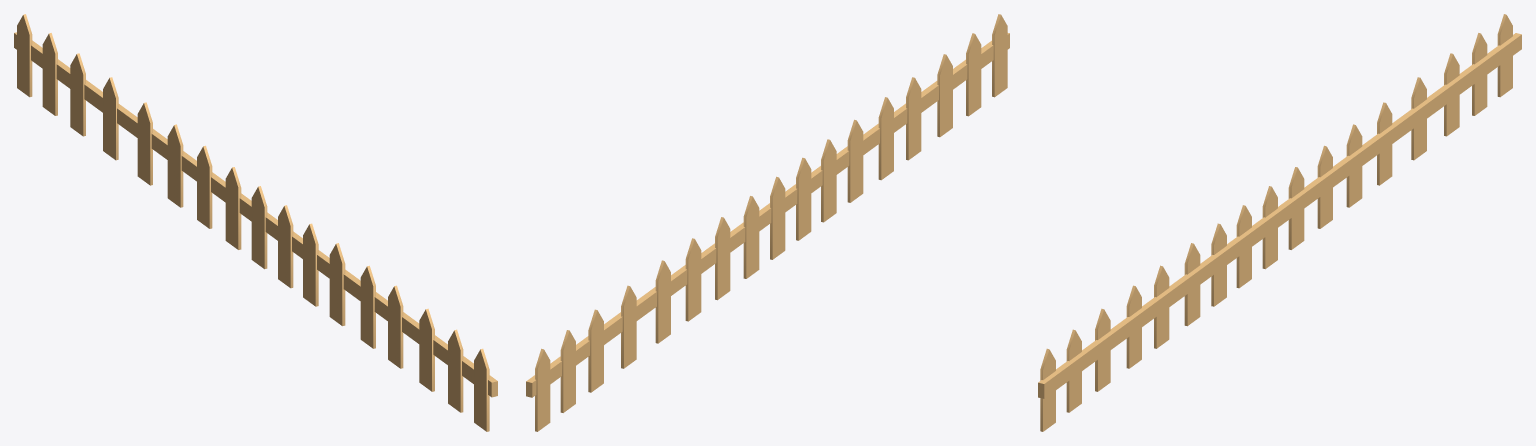
File: bars.fbx
3 renders of one model, left to right at view 1: azimuth 30°, elevation 25°; view 2: azimuth 150°, elevation 25°; view 3: azimuth 330°, elevation 25°, orthographic.
Visible parts, largest first — view 1: 立方体_16, 立方体_2_2, 立方体_1, 立方体_4, 立方体_6, 立方体_9, 立方体_15, 立方体_7, 立方体_5, 立方体_10, 立方体_8, 立方体_12 (+6 smaller); view 2: 立方体_16, 立方体_6, 立方体_4, 立方体_1, 立方体_2, 立方体_3, 立方体_11, 立方体_8, 立方体_13, 立方体, 立方体_14, 立方体_12 (+6 smaller); view 3: 立方体_16, 立方体_6, 立方体_4, 立方体_1, 立方体_12, 立方体_9, 立方体_5, 立方体_7, 立方体_2, 立方体_15, 立方体_8, 立方体_3 (+6 smaller).
Boxes of the visible parts, <box> form: 立方体_16: <box>14,32,497,397</box>; 立方体_2_2: <box>251,186,267,269</box>; 立方体_1: <box>225,167,241,249</box>; 立方体_4: <box>329,243,345,326</box>; 立方体_6: <box>167,124,183,207</box>; 立方体_9: <box>70,53,85,136</box>; 立方体_15: <box>419,308,434,391</box>; 立方体_7: <box>137,102,152,185</box>; 立方体_5: <box>360,265,375,348</box>; 立方体_10: <box>42,33,57,115</box>; 立方体_8: <box>103,77,118,160</box>; 立方体_12: <box>474,348,489,431</box>; 立方体_16: <box>526,33,1009,397</box>; 立方体_6: <box>685,238,701,321</box>; 立方体_4: <box>847,119,863,202</box>; 立方体_1: <box>743,196,759,278</box>; 立方体_2: <box>796,157,811,240</box>; 立方体_3: <box>821,139,836,222</box>; 立方体_11: <box>535,348,550,431</box>; 立方体_8: <box>621,285,636,368</box>; 立方体_13: <box>906,77,921,160</box>; 立方体: <box>715,217,730,300</box>; 立方体_14: <box>966,33,981,116</box>; 立方体_12: <box>992,14,1007,97</box>; 立方体_16: <box>1038,33,1521,398</box>; 立方体_6: <box>1346,124,1362,207</box>; 立方体_4: <box>1184,243,1200,326</box>; 立方体_1: <box>1288,167,1304,249</box>; 立方体_12: <box>1040,348,1055,431</box>; 立方体_9: <box>1444,53,1459,136</box>; 立方体_5: <box>1154,265,1169,348</box>; 立方体_7: <box>1377,102,1392,185</box>; 立方体_2: <box>1236,205,1251,288</box>; 立方体_15: <box>1095,308,1110,391</box>; 立方体_8: <box>1411,77,1426,160</box>; 立方体_3: <box>1211,223,1226,306</box>.
Bounding box in the file's own units: 49.81 × 498 × 5531.
